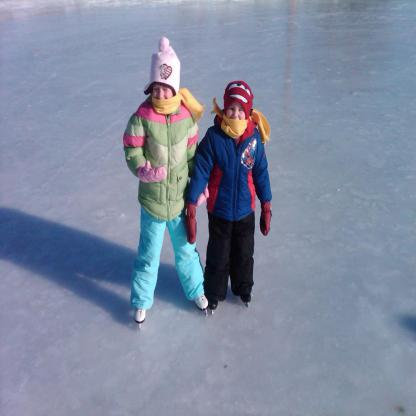face: (152, 78, 175, 111), (227, 99, 248, 128)
